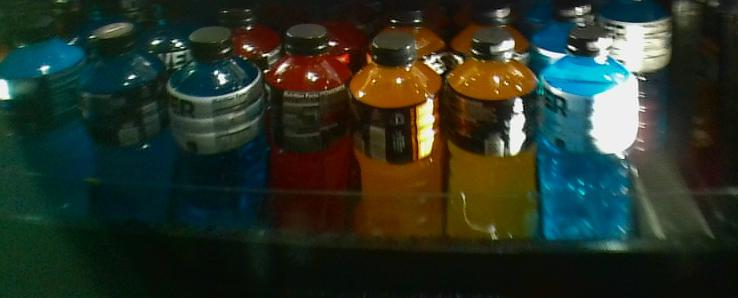bottle: (541, 20, 639, 246), (166, 14, 261, 241), (349, 23, 441, 244), (447, 28, 537, 246), (76, 17, 161, 240), (264, 24, 346, 243)
